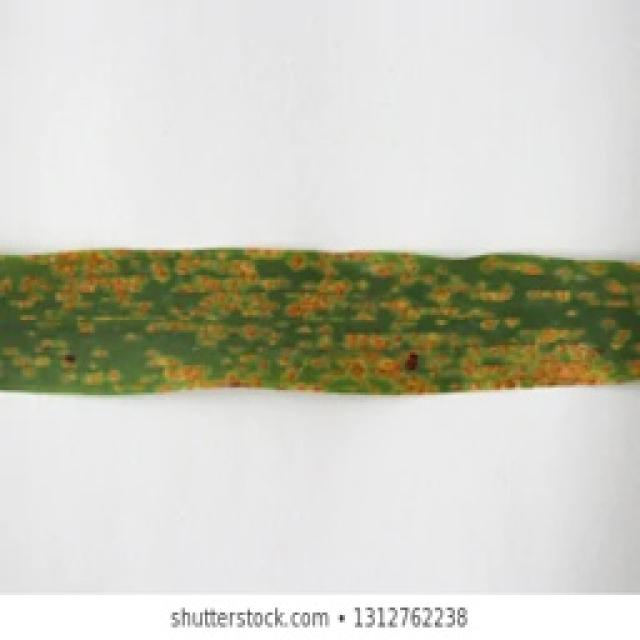Healthy Wheat: (0, 245, 638, 395)
